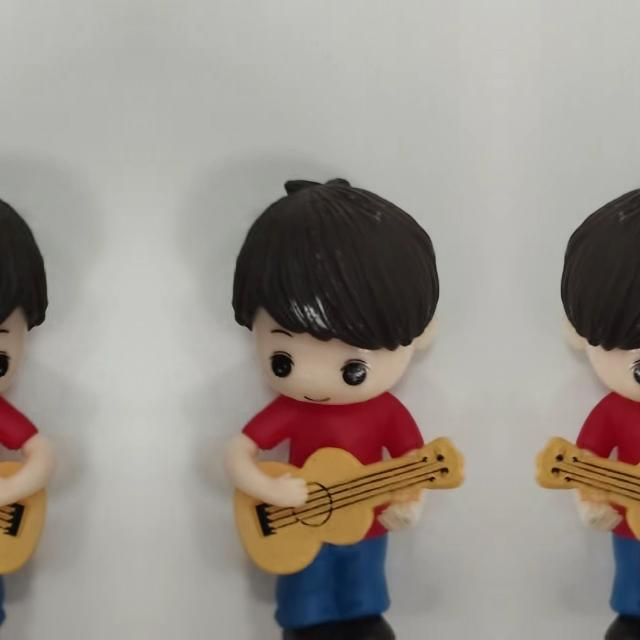man cloth: (244, 397, 442, 543), (558, 397, 640, 543), (0, 397, 35, 543)
man head: (229, 171, 441, 401), (559, 171, 640, 401), (0, 171, 51, 401)
trousers: (268, 535, 404, 639), (595, 535, 640, 639), (0, 535, 12, 639)
